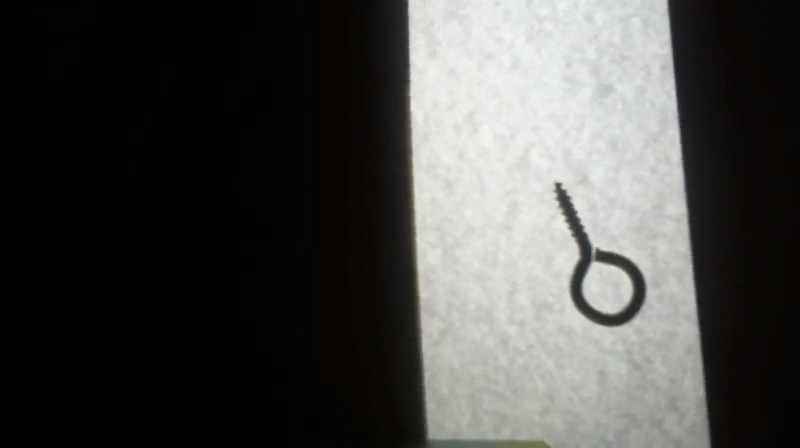O001: (550, 178, 651, 330)
